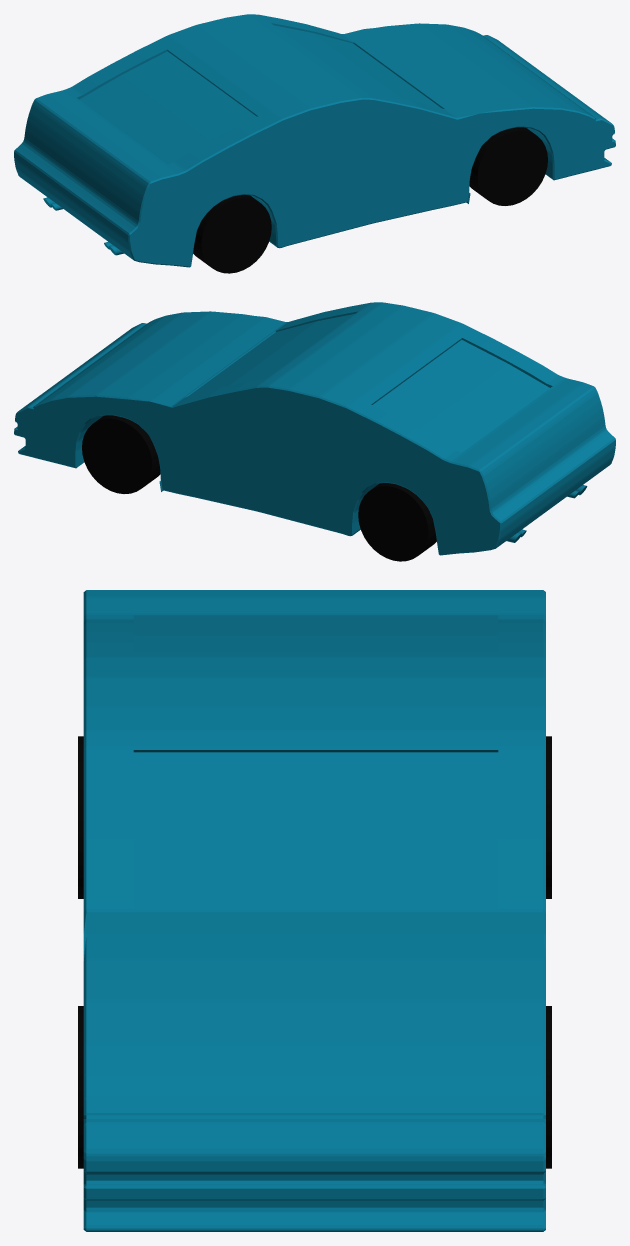
File: Car.fbx
3 renders of one model, top to bottom at view 1: azimuth 30°, elevation 25°; view 2: azimuth 150°, elevation 25°; view 3: azimuth 270°, elevation 25°, orthographic. The views are drawn at different scales.
Parts seen in each view (by area): view 1: Body, Cylinder.002, Cylinder.003; view 2: Body, Cylinder.001, Cylinder; view 3: Body, Cylinder, Cylinder.001, Cylinder.003, Cylinder.002.
Part boxes in pixels (<box>): Body: <box>14,14,615,267</box>; Cylinder.002: <box>469,127,547,205</box>; Cylinder.003: <box>193,195,271,273</box>; Body: <box>14,302,615,555</box>; Cylinder.001: <box>82,415,160,493</box>; Cylinder: <box>358,483,436,561</box>; Body: <box>83,590,545,1231</box>; Cylinder: <box>546,736,551,898</box>; Cylinder.001: <box>546,1006,551,1168</box>; Cylinder.003: <box>78,736,83,898</box>; Cylinder.002: <box>78,1006,83,1168</box>.
Size of the model in its own units: 321 by 90.42 by 135.
